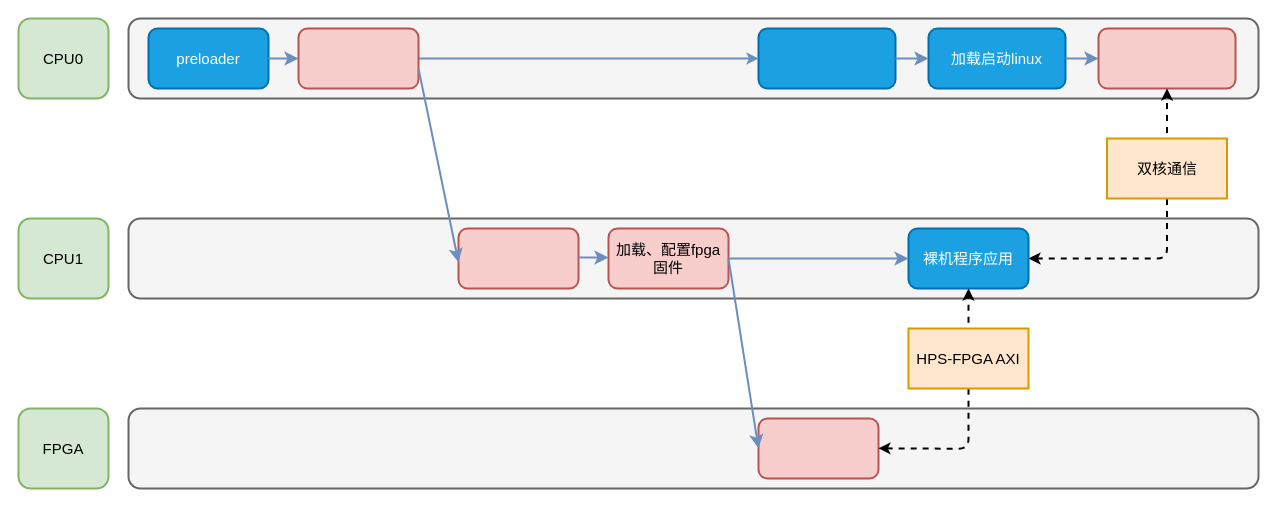
Image size: 1276x506. Some labels were removed from this diagram. Here are the shapes that lost their labels. From the top down, the centre of each, then its label:
(x=358, y=58): 加载裸机程序到ddr
(x=826, y=58): 加载并启动u-boot
(x=1166, y=58): linux应用
(x=518, y=258): 启动裸机程序
(x=818, y=448): fpga固件
